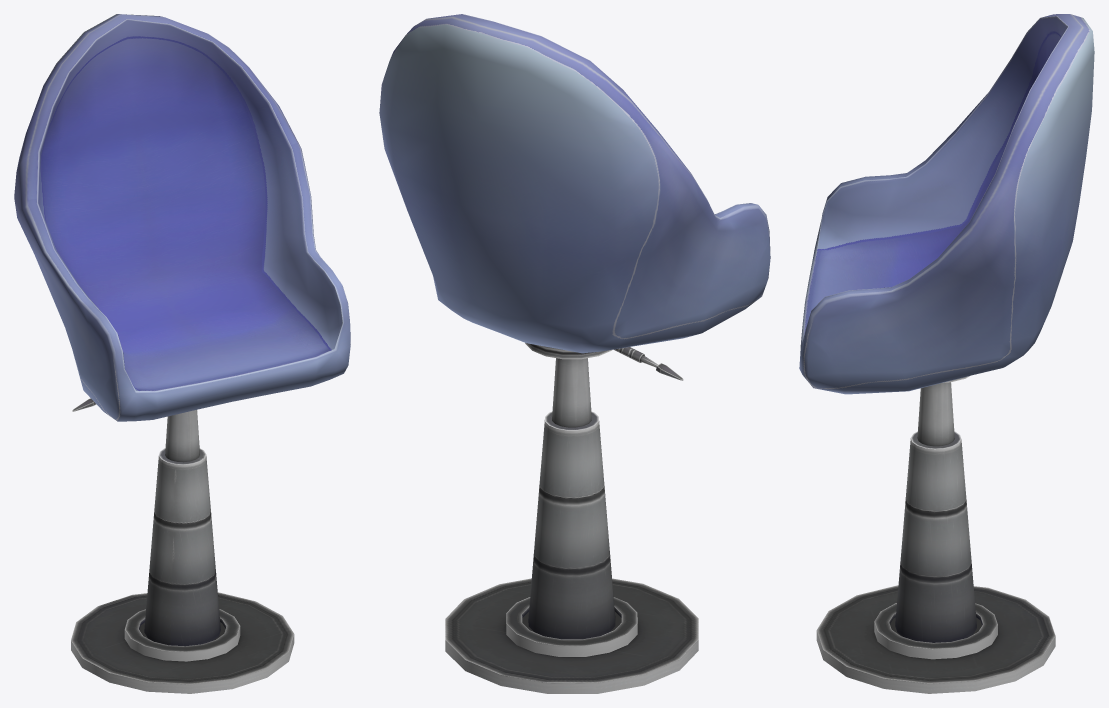
File: Silla.fbx
3 renders of one model, left to right at view 1: azimuth 30°, elevation 25°; view 2: azimuth 150°, elevation 25°; view 3: azimuth 270°, elevation 25°, orthographic. The views are drawn at different scales.
Visible parts, largest first — view 1: Silla; view 2: Silla; view 3: Silla.
Boxes of the visible parts, bbox=[...] form: Silla: bbox=[14, 14, 350, 693]; Silla: bbox=[379, 14, 770, 693]; Silla: bbox=[799, 14, 1094, 693].
Size of the model in its own units: 63.19 by 130 by 56.2.
